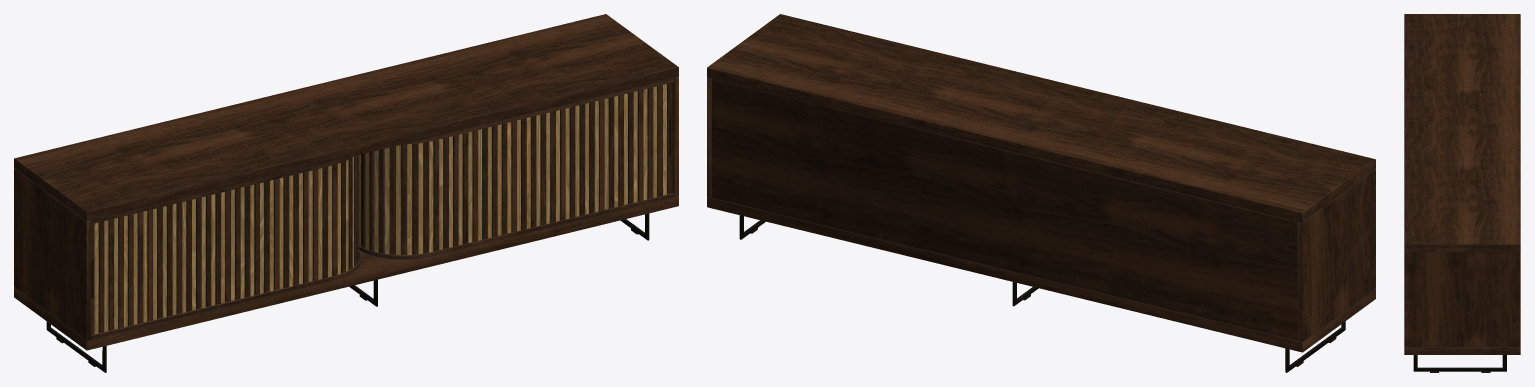
Rendered from modern_wooden_cabinet.glb.
3 renders of one model, left to right at view 1: azimuth 30°, elevation 25°; view 2: azimuth 150°, elevation 25°; view 3: azimuth 270°, elevation 25°, orthographic. The views are drawn at different scales.
Visible parts, largest first — view 1: modern_wooden_cabinet_body, modern_wooden_cabinet_door_r, modern_wooden_cabinet_door_l; view 2: modern_wooden_cabinet_body; view 3: modern_wooden_cabinet_body.
Boxes of the visible parts, left/top/right/bottom form: modern_wooden_cabinet_body: left=14, top=14, right=678, bottom=372; modern_wooden_cabinet_door_r: left=359, top=82, right=672, bottom=254; modern_wooden_cabinet_door_l: left=91, top=155, right=358, bottom=334; modern_wooden_cabinet_body: left=707, top=14, right=1375, bottom=372; modern_wooden_cabinet_body: left=1404, top=14, right=1520, bottom=372.
Size of the model in its own units: 2.44 by 0.6801 by 0.5201.
1 material, 1 textured.
